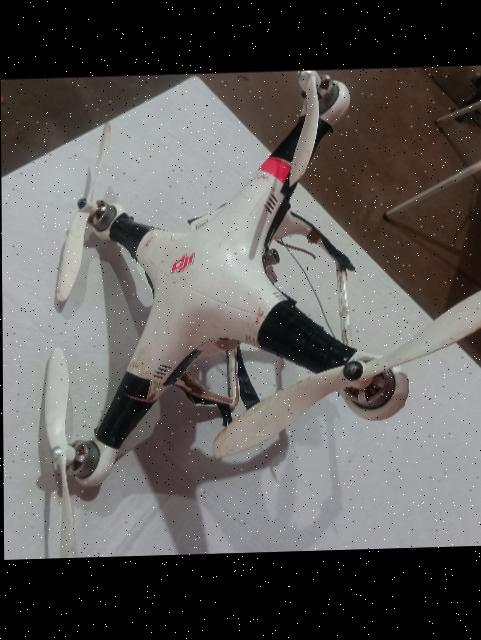drone: (17, 68, 481, 560)
